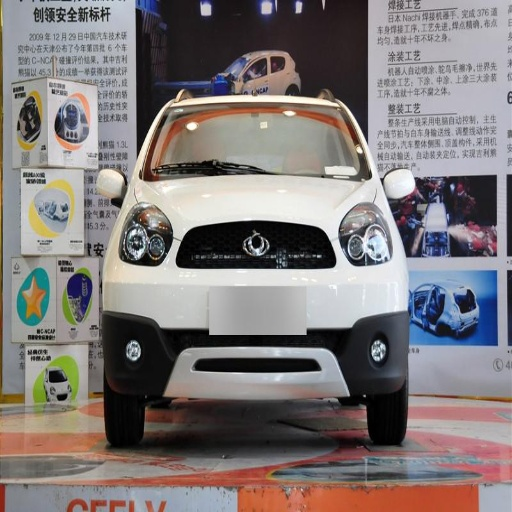front_bumper: (98, 224, 408, 399)
front_right_light: (118, 204, 170, 265)
hood: (137, 175, 374, 231)
